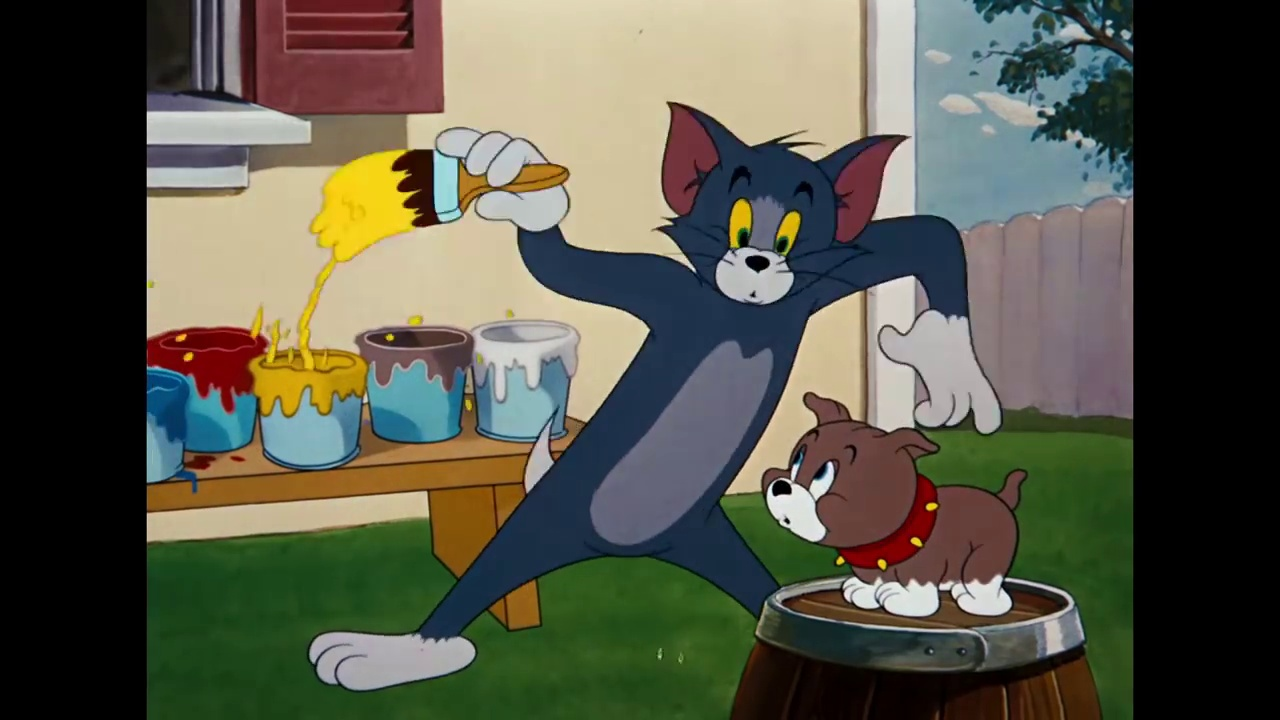tom: (644, 98, 910, 310)
